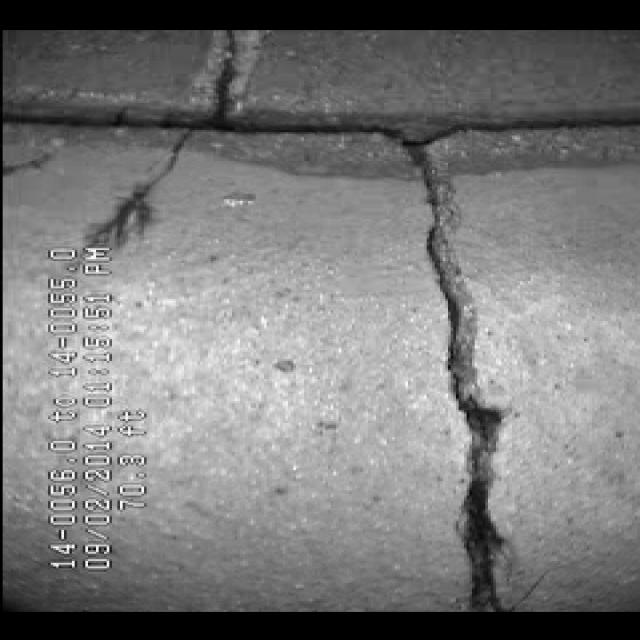Crack: (345, 140, 569, 566)
